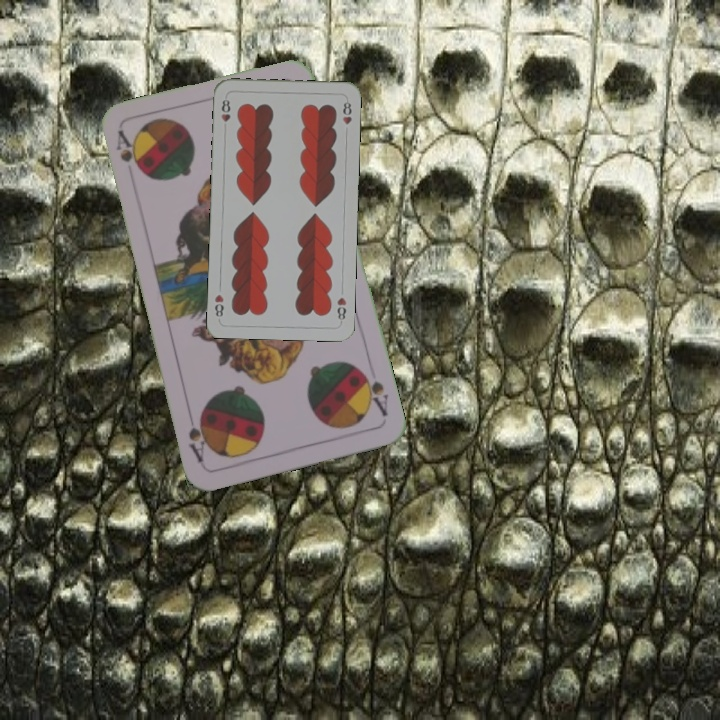H8: (217, 95, 233, 133), (333, 293, 349, 325)
SA: (356, 365, 391, 419), (112, 126, 141, 173)
